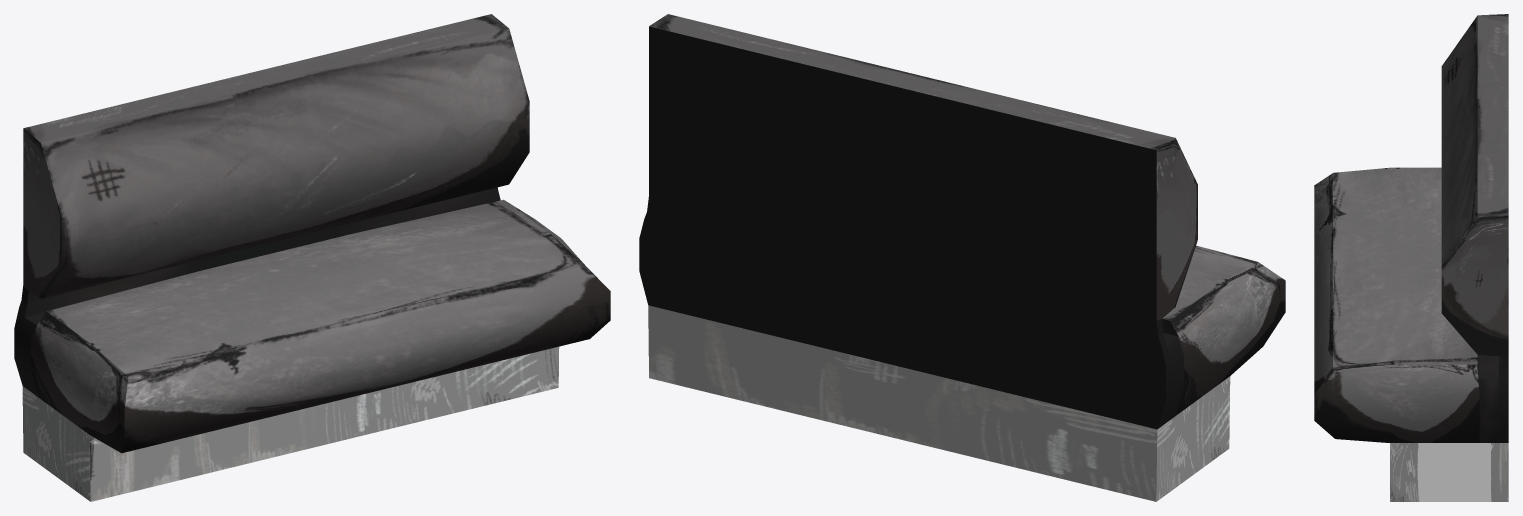
The model's file is GDC_subway_seat_var1_maggierose.fbx.
3 renders of one model, left to right at view 1: azimuth 30°, elevation 25°; view 2: azimuth 150°, elevation 25°; view 3: azimuth 270°, elevation 25°, orthographic. The views are drawn at different scales.
Parts seen in each view (by area): view 1: pasted__pCube5; view 2: pasted__pCube5; view 3: pasted__pCube5.
Boxes of the visible parts, bbox=[...] form: pasted__pCube5: bbox=[14, 14, 610, 501]; pasted__pCube5: bbox=[639, 14, 1285, 501]; pasted__pCube5: bbox=[1314, 14, 1508, 501].
Size of the model in its own units: 6.54 by 4.17 by 2.57.
